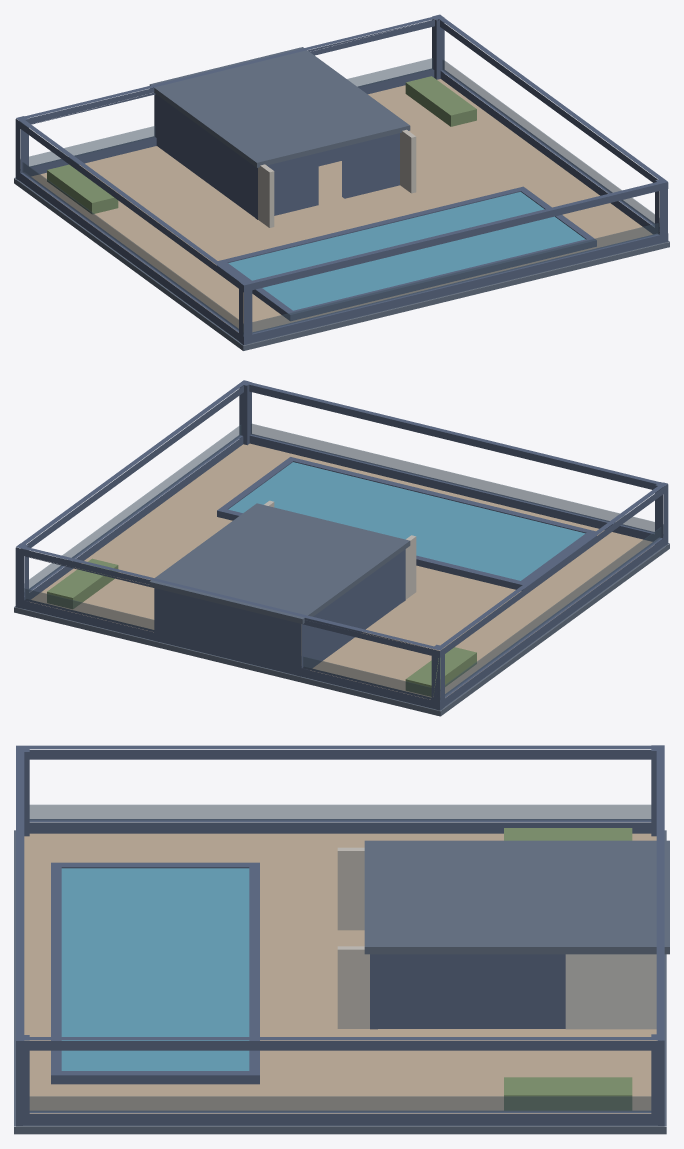
Rendered from office-roof-b.gaps-v1.lod0.glb.
3 renders of one model, top to bottom at view 1: azimuth 30°, elevation 25°; view 2: azimuth 150°, elevation 25°; view 3: azimuth 270°, elevation 25°, orthographic. The views are drawn at different scales.
Visible parts, largest first — view 1: office-roof-b; view 2: office-roof-b; view 3: office-roof-b.
Part boxes in pixels (<box>): office-roof-b: <box>14,14,669,350</box>; office-roof-b: <box>14,380,669,716</box>; office-roof-b: <box>14,745,669,1134</box>.
Bounding box in the file's own units: 26.16 × 3.86 × 24.48.
